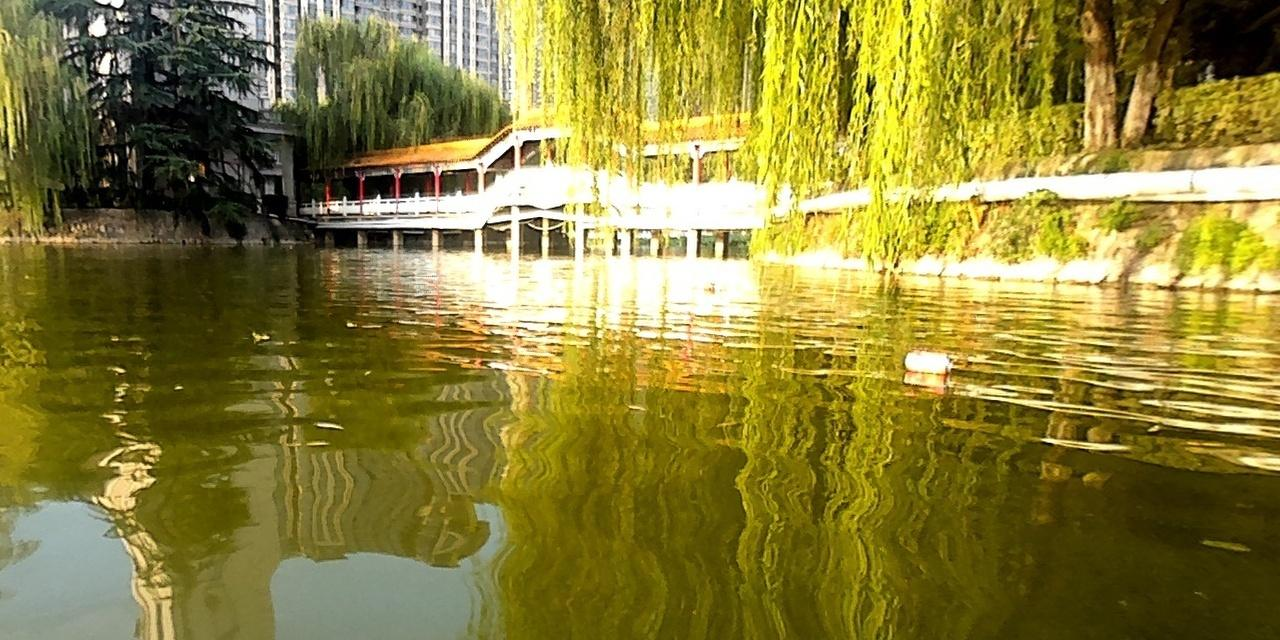bottle: (900, 348, 951, 376)
